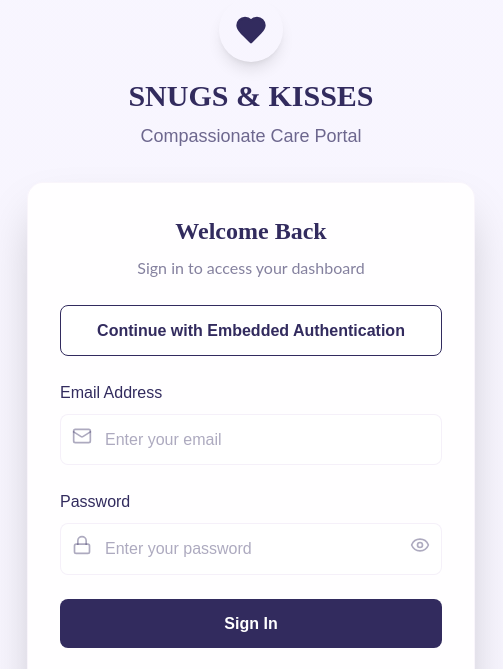
Test case: LoginForm Component › handles form submission failure
In the field labelled "Email Address": (251, 440) [60, 414, 442, 465], type "test@example.com"
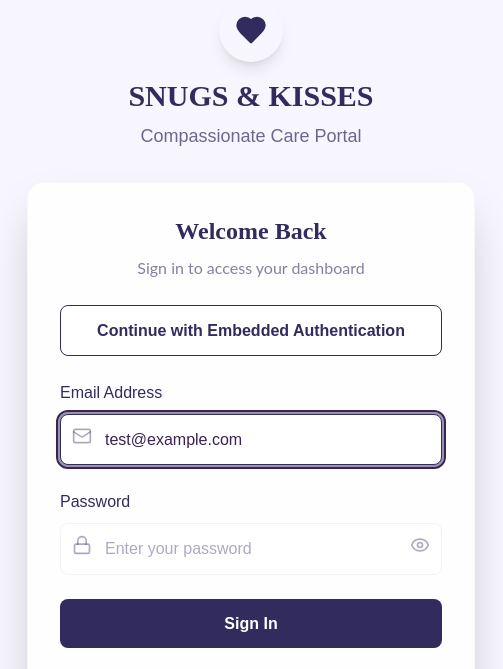
In the password field labelled "Password": (251, 549) [60, 523, 442, 575], type "wrongpassword"
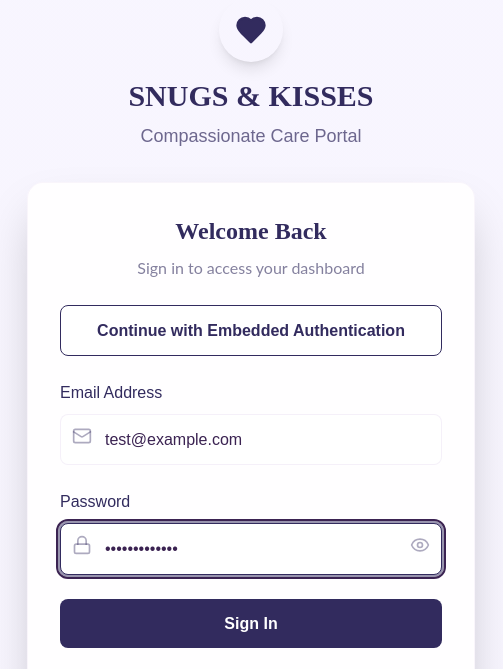
Click the button "Sign In": (251, 623) [60, 599, 442, 648]
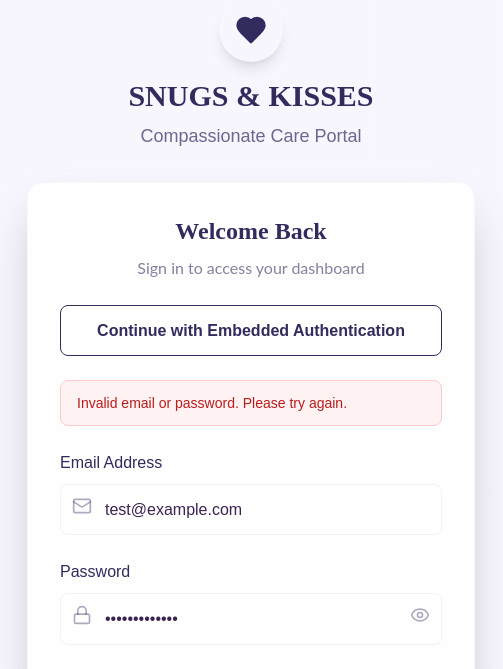
Check: the text "Invalid email or password. Please try again." is shown, box [60, 380, 442, 426]
